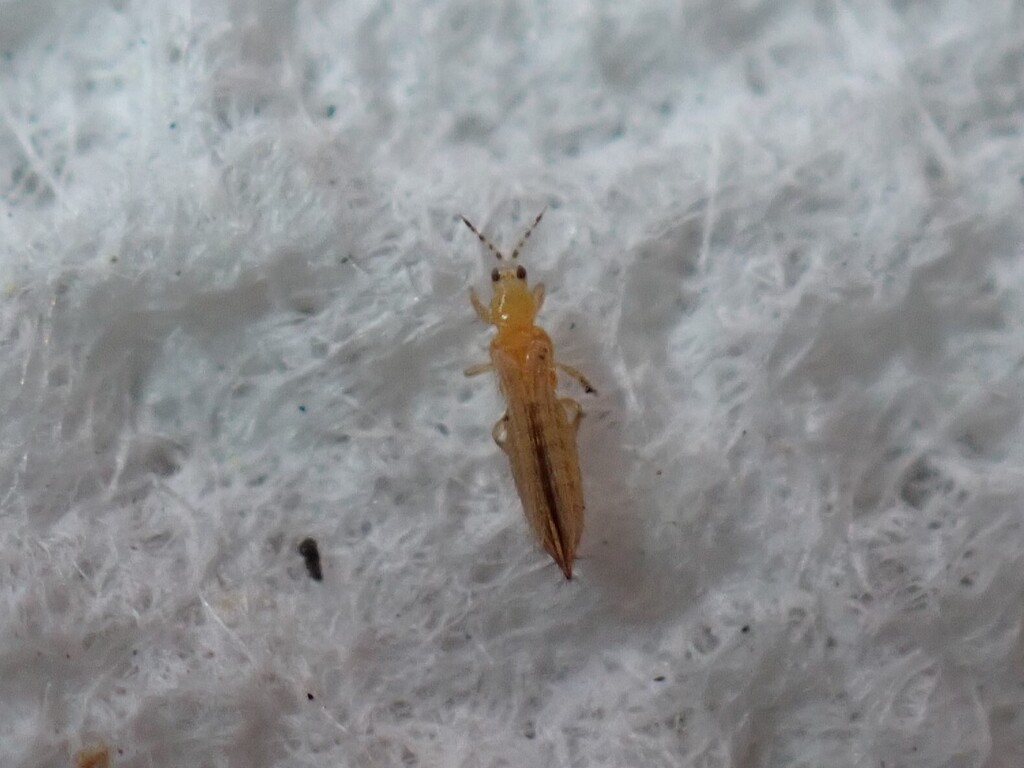tiny_pests: (369, 136, 691, 659)
